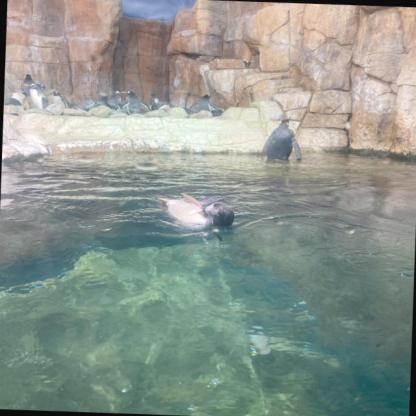penguin: (157, 192, 236, 229), (259, 116, 304, 165), (22, 82, 50, 108), (190, 93, 219, 118), (67, 98, 119, 111), (122, 90, 148, 114), (8, 90, 30, 110), (108, 90, 126, 111), (20, 74, 35, 94), (50, 92, 66, 108), (151, 100, 173, 110), (4, 97, 21, 106), (150, 94, 160, 106), (33, 84, 48, 90)
